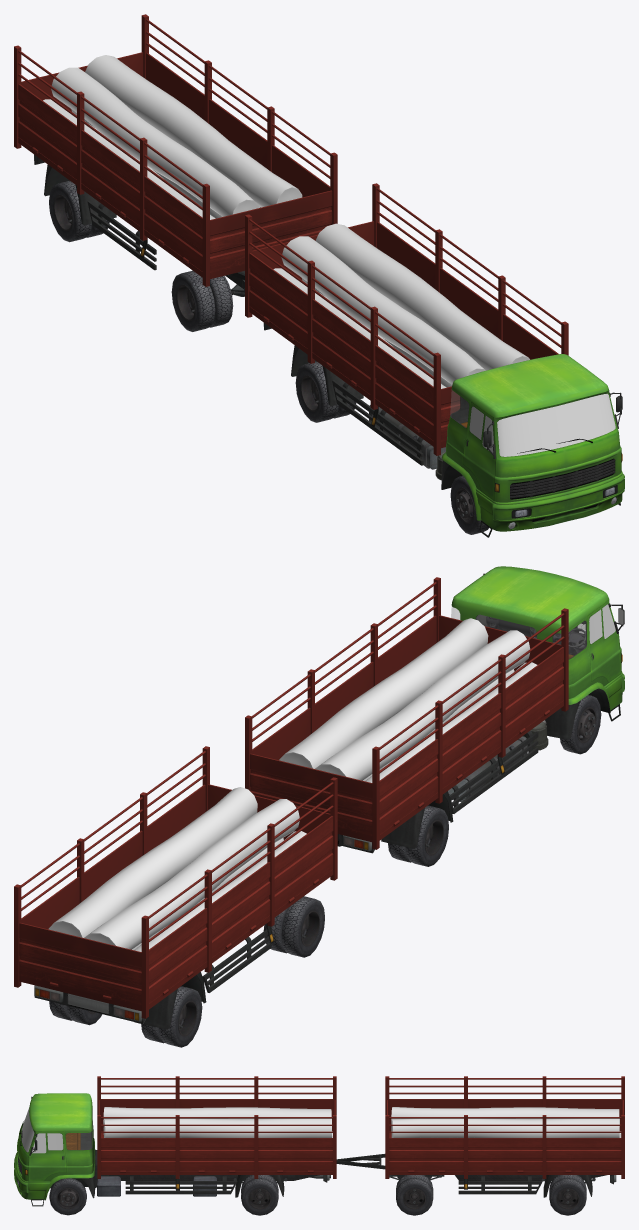
Rendered from Truck_Gandeng.fbx.
The picture shows the model from 3 angles, top to bottom: view 1: azimuth 30°, elevation 25°; view 2: azimuth 150°, elevation 25°; view 3: azimuth 270°, elevation 25°; orthographic projection. The views are drawn at different scales.
Parts seen in each view (by area): view 1: Boddy, Body, kayu.001, kayu, Door_02, Door_R.001, RainGlass, Door_L.001, Door_01, Axle_R, ban_3, Wheels_01 (+3 smaller); view 2: Boddy, kayu, kayu.001, Body, Door_02, Door_R.001, Door_B, Door_01, Door_L.001, Axle_R, Wheels_01, ban_3 (+6 smaller); view 3: Boddy, Door_L.001, Door_01, Body, kayu, kayu.001, Door_R.001, Door_02, Wheels_02, Axle_L, ban_4, Door_Left.Ex (+5 smaller).
Boxes of the visible parts, x1,y1,x2,y2 form: Boddy: [245, 183, 624, 537]; Body: [14, 14, 337, 286]; kayu.001: [43, 55, 302, 219]; kayu: [273, 223, 529, 388]; Door_02: [249, 253, 433, 440]; Door_R.001: [18, 84, 202, 271]; RainGlass: [497, 393, 615, 456]; Door_L.001: [146, 53, 330, 197]; Door_01: [377, 222, 558, 359]; Axle_R: [171, 270, 233, 331]; ban_3: [295, 361, 356, 422]; Wheels_01: [49, 180, 109, 242]; Boddy: [245, 566, 624, 853]; kayu: [279, 618, 537, 782]; kayu.001: [48, 787, 306, 951]; Body: [14, 746, 337, 1029]; Door_02: [379, 647, 563, 834]; Door_R.001: [149, 816, 333, 1003]; Door_B: [19, 922, 141, 1005]; Door_01: [252, 615, 436, 760]; Door_L.001: [21, 784, 205, 929]; Axle_R: [263, 896, 324, 957]; Wheels_01: [141, 986, 202, 1047]; ban_3: [388, 805, 448, 866]; Boddy: [14, 1076, 336, 1206]; Door_L.001: [389, 1138, 621, 1172]; Door_01: [101, 1138, 332, 1172]; Body: [385, 1076, 624, 1197]; kayu: [103, 1107, 332, 1137]; kayu.001: [391, 1107, 621, 1137]; Door_R.001: [389, 1099, 621, 1131]; Door_02: [101, 1099, 332, 1131]; Wheels_02: [549, 1175, 586, 1215]; Axle_L: [396, 1175, 433, 1215]; ban_4: [241, 1175, 278, 1215]; Door_Left.Ex: [28, 1131, 66, 1181].
Size of what is drawn, in the model's own units: 266 by 290 by 1594.
Materials: 11 (4 with a texture image).
